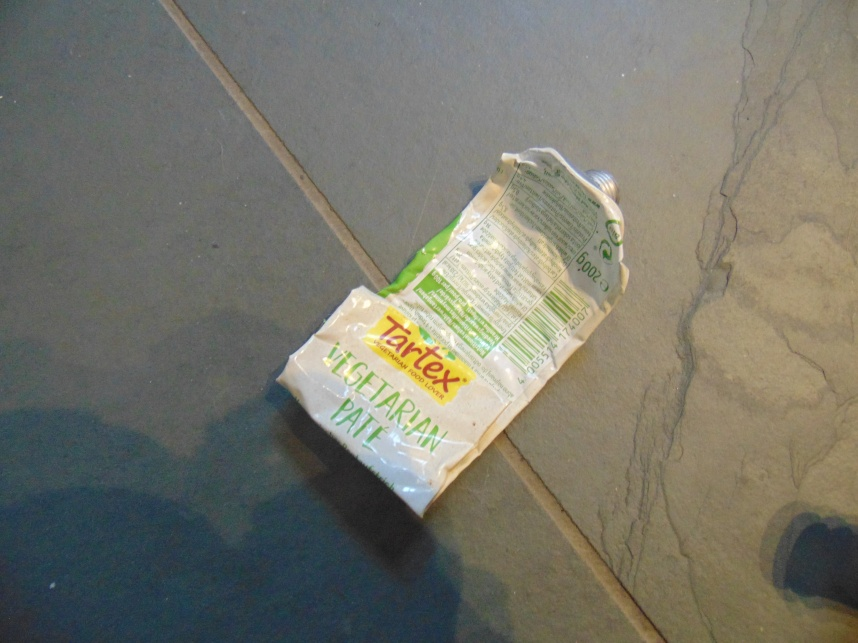metal: (276, 146, 631, 518)
